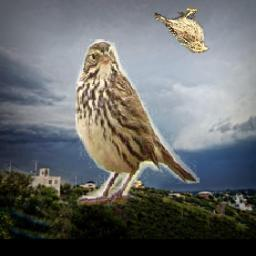Sparrow: (75, 39, 199, 206), (154, 8, 209, 54)
